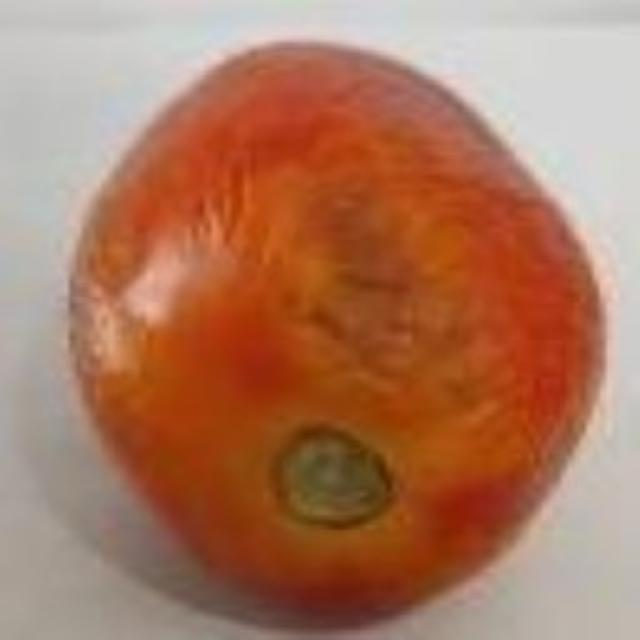defect: (66, 35, 618, 633)
